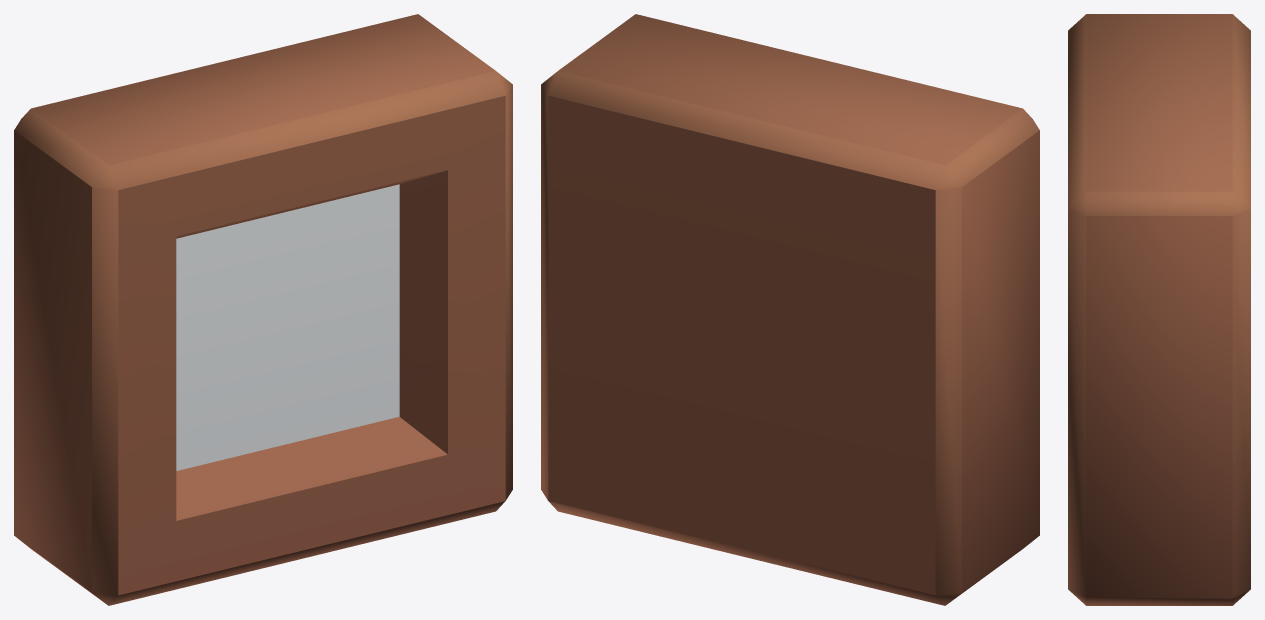
The model's file is pictureframe-small-c.glb.
The picture shows the model from 3 angles, left to right: view 1: azimuth 30°, elevation 25°; view 2: azimuth 150°, elevation 25°; view 3: azimuth 270°, elevation 25°; orthographic projection. The views are drawn at different scales.
Parts seen in each view (by area): view 1: pictureframe_small_C; view 2: pictureframe_small_C; view 3: pictureframe_small_C.
Part boxes in pixels (box(x1,y1,x2,y2)): pictureframe_small_C: box(14, 14, 512, 605); pictureframe_small_C: box(541, 14, 1039, 605); pictureframe_small_C: box(1068, 14, 1250, 605).
Bounding box in the file's own units: 0.5 × 0.5 × 0.2.
